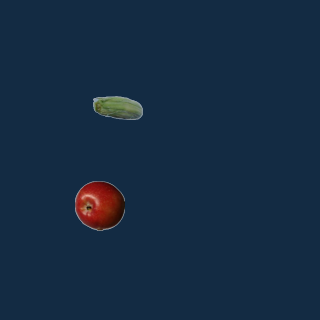Apple Braeburn: (74, 180, 124, 230)
Corn Husk: (92, 84, 142, 134)
